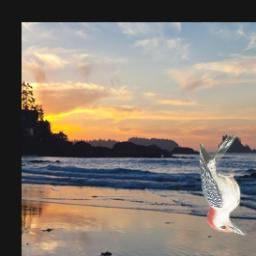Woodpecker: (199, 133, 248, 237)
